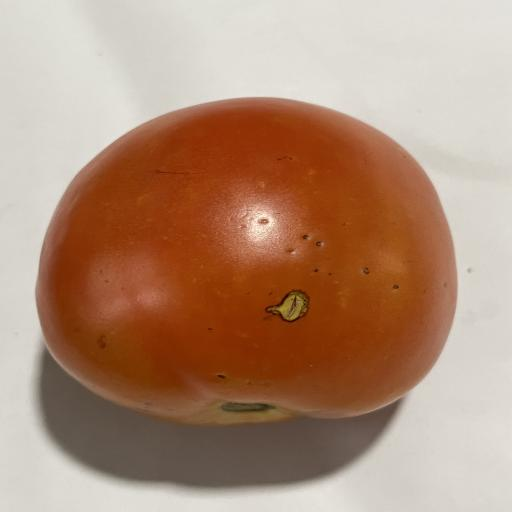ripe: (37, 98, 457, 425)
